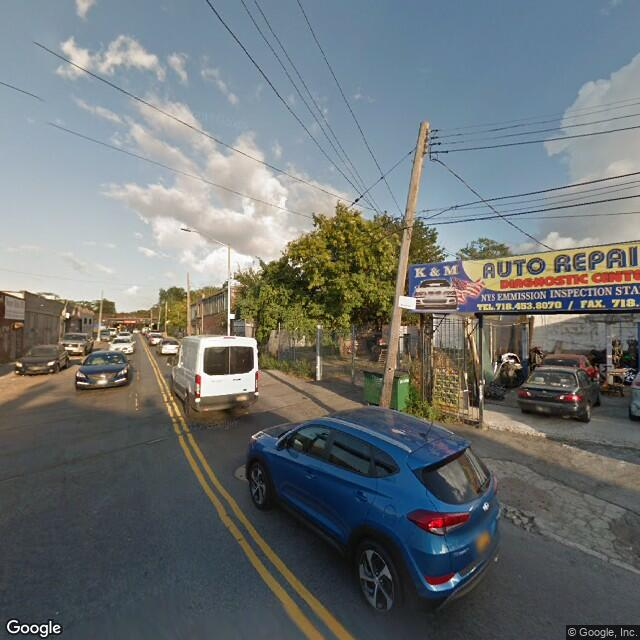litter: (487, 543, 507, 569)
